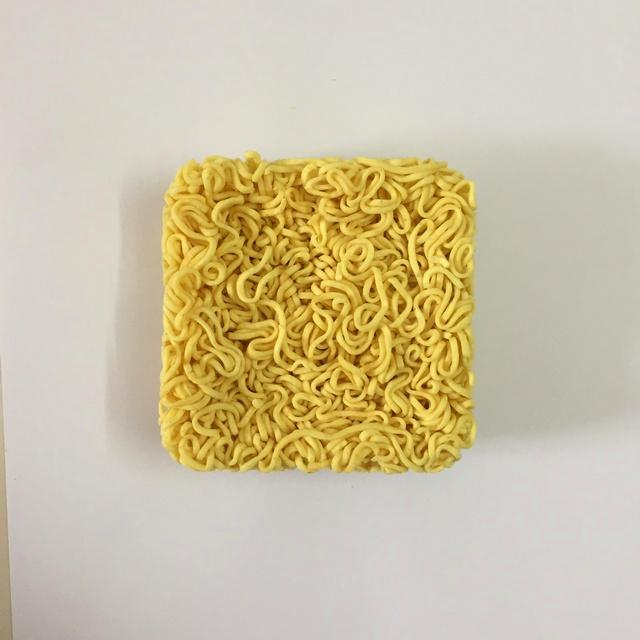noodles: (149, 144, 485, 489)
